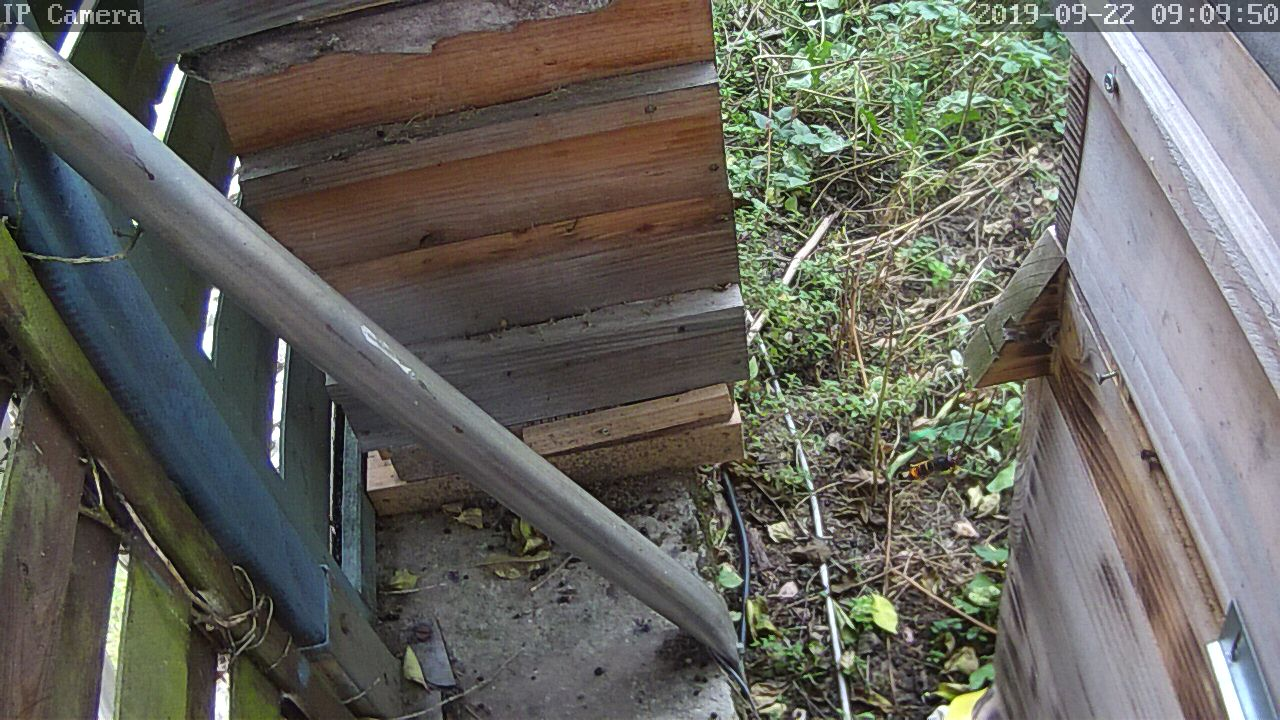bee: (1134, 438, 1165, 470)
hornet: (902, 443, 963, 483)
